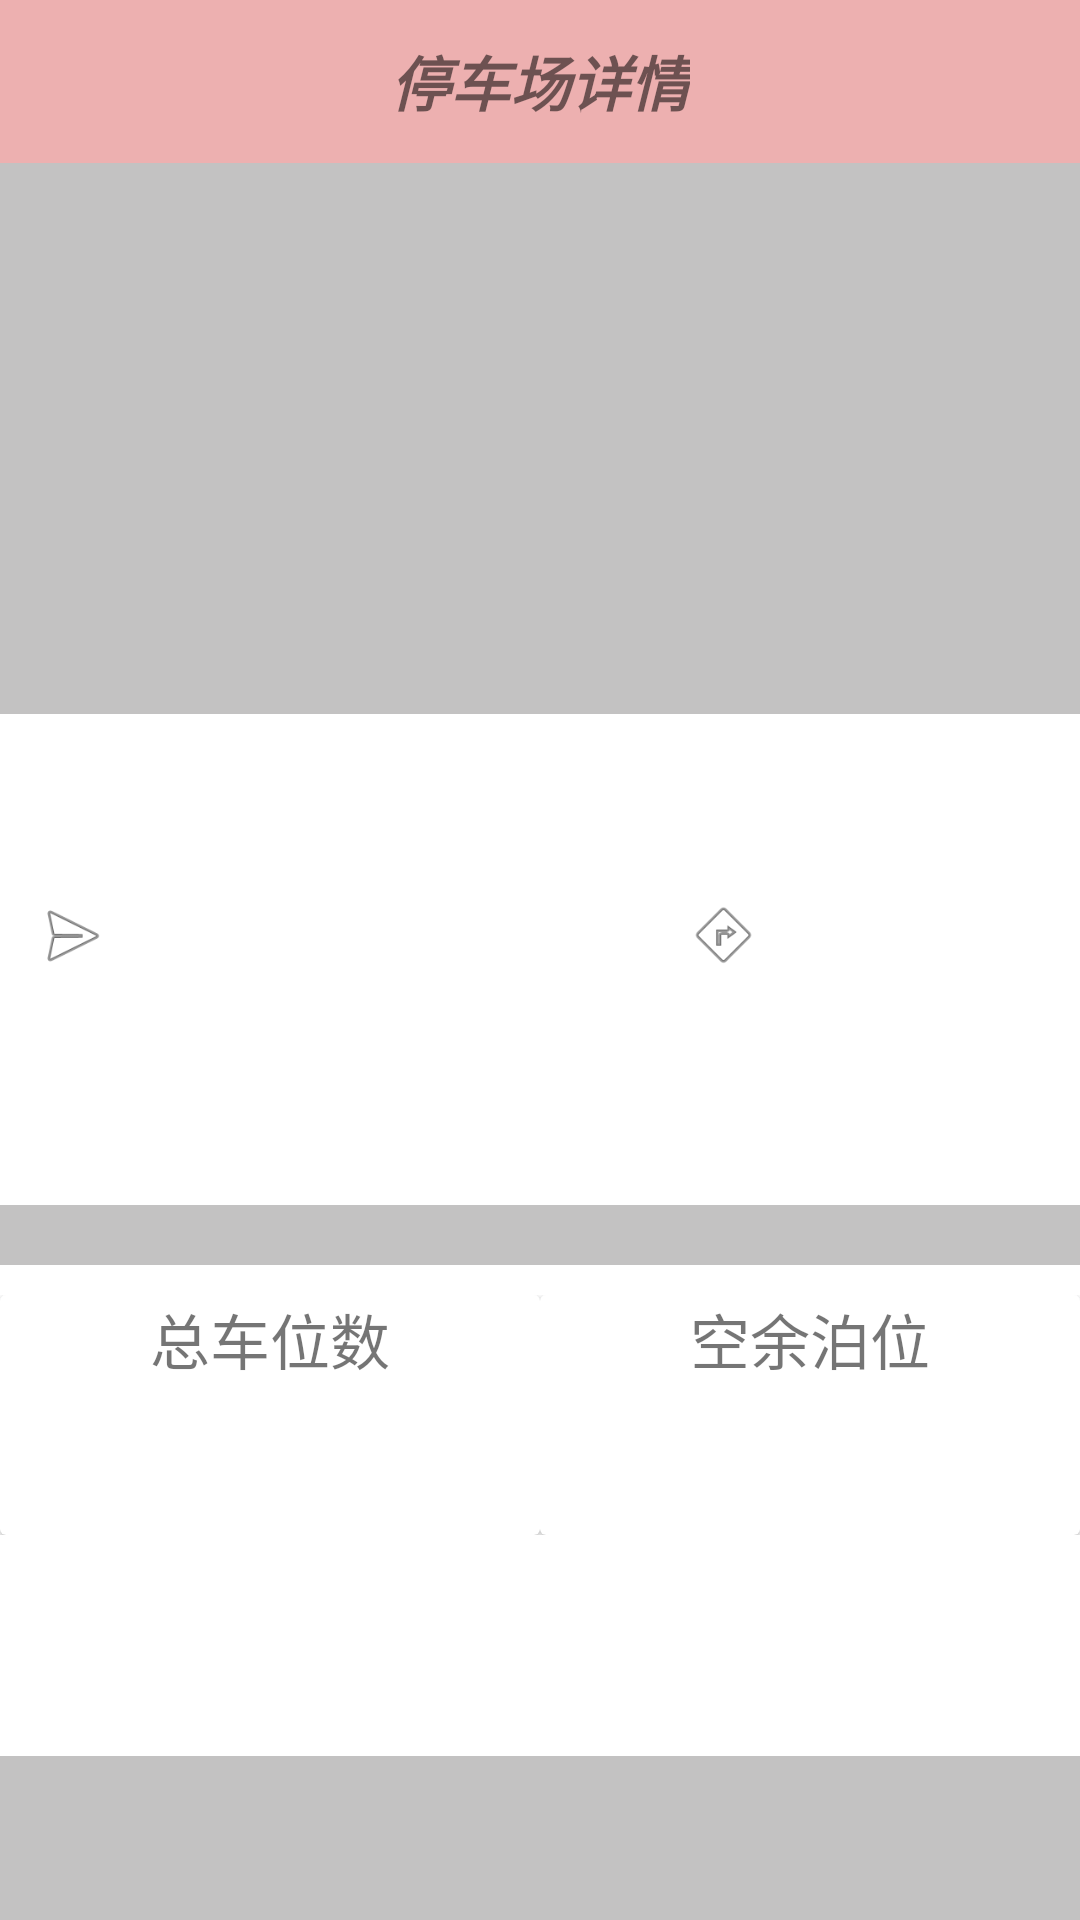

Icon bounding boxes for this 1080px x 1920px phone screenshot, format (x1, y1, x2, y2):
directions: (696, 907, 751, 963)
send: (47, 910, 99, 962)
